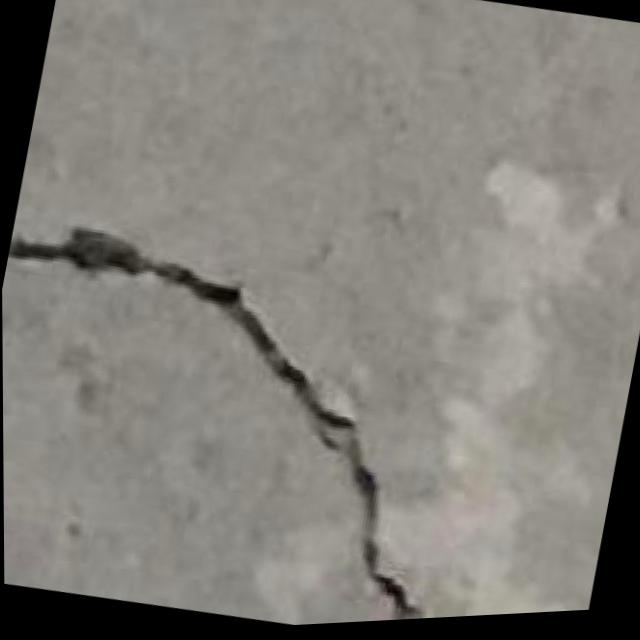Crack: (1, 177, 517, 640)
